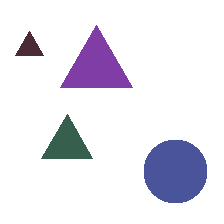circle: (144, 140, 206, 202)
triangle: (60, 25, 132, 87), (41, 114, 92, 158), (15, 31, 43, 55)
